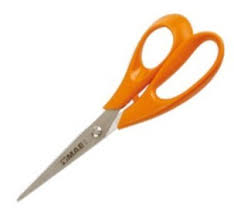tihiras: (12, 9, 225, 203)
